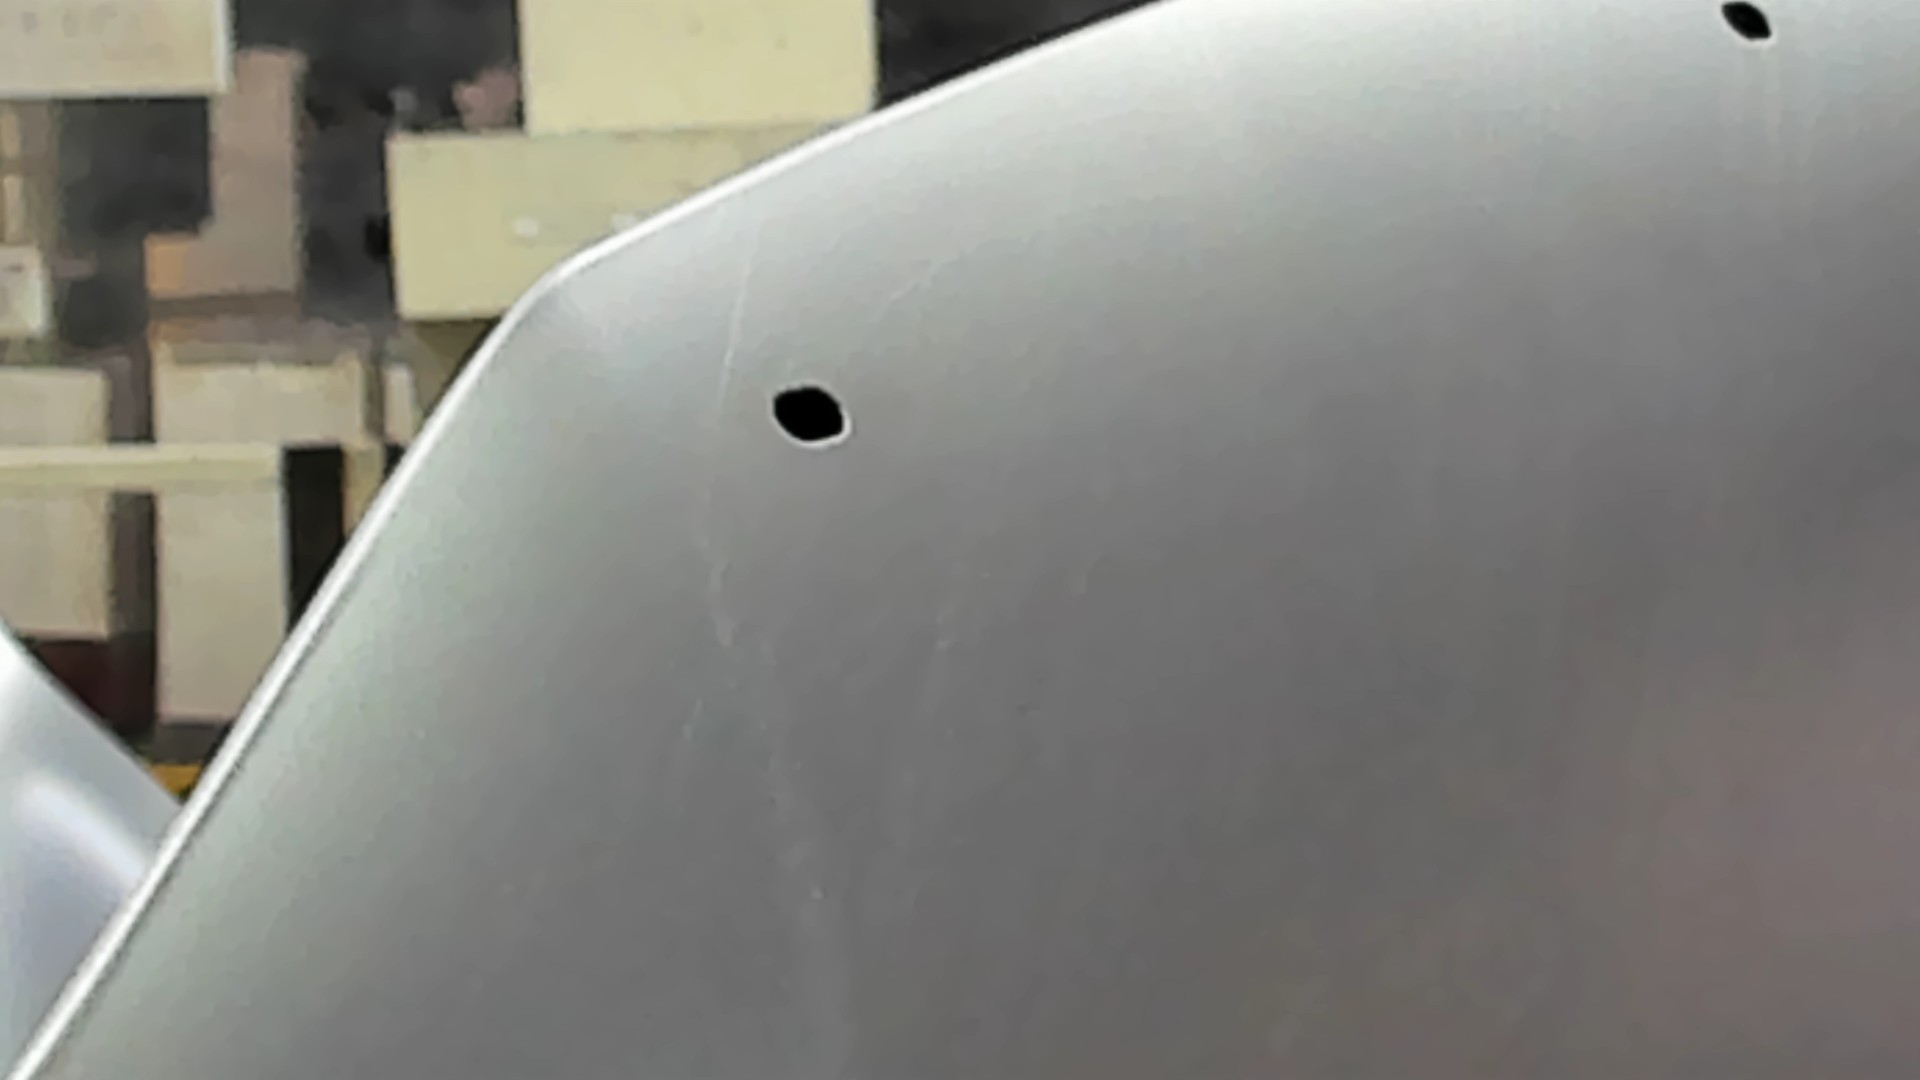amorfo: (765, 378, 856, 451), (1718, 1, 1778, 51)
capo: (901, 127, 1920, 1080)
